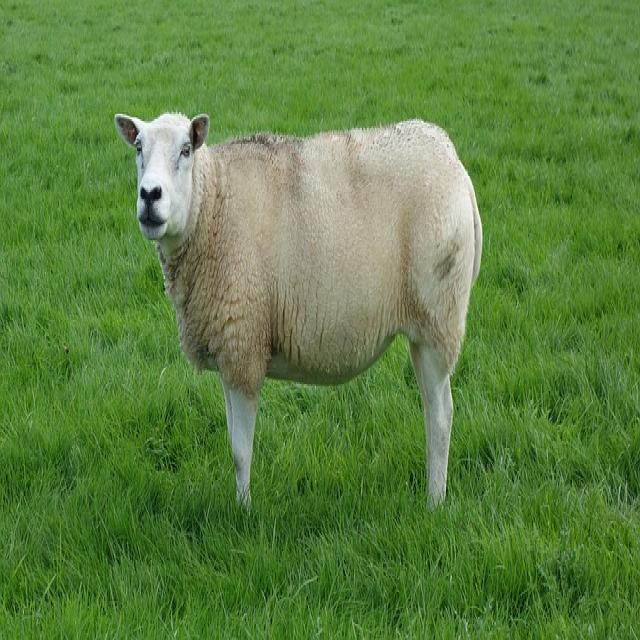goat: (112, 112, 485, 508)
